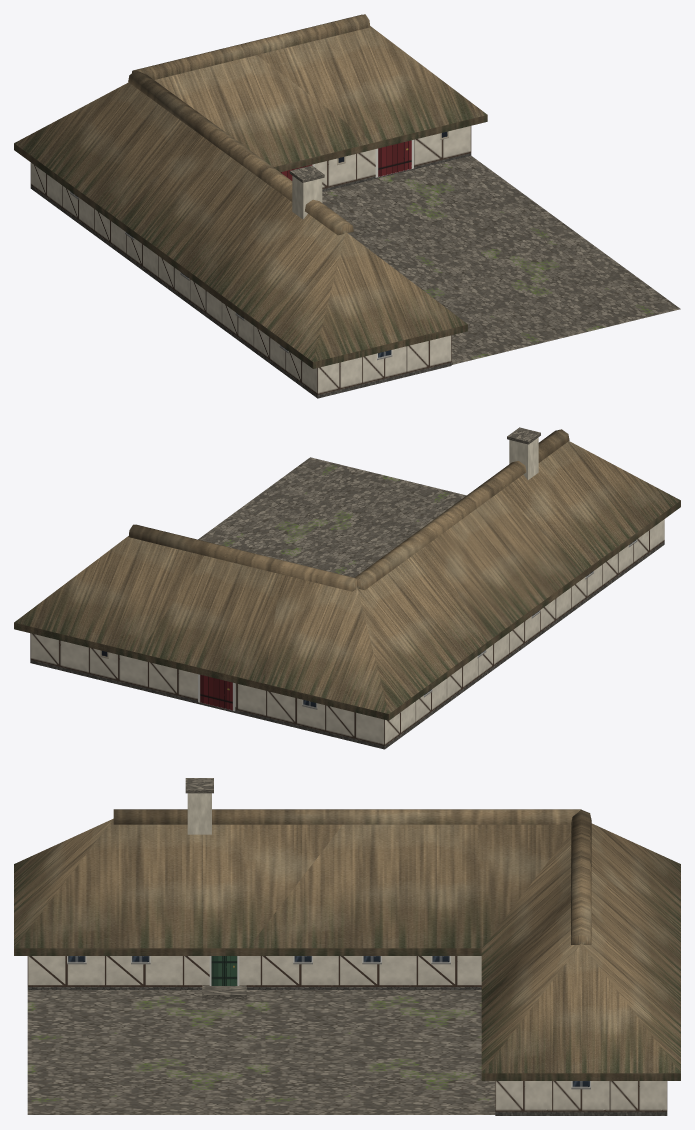
The model's file is SM_Farm_Tolaenget.fbx.
The picture shows the model from 3 angles, top to bottom: view 1: azimuth 30°, elevation 25°; view 2: azimuth 150°, elevation 25°; view 3: azimuth 270°, elevation 25°; orthographic projection. The views are drawn at different scales.
Visible parts, largest first — view 1: SM_Farm_Tolaenget; view 2: SM_Farm_Tolaenget; view 3: SM_Farm_Tolaenget.
Boxes of the visible parts, x1,y1,x2,y2 form: SM_Farm_Tolaenget: [14, 14, 680, 398]; SM_Farm_Tolaenget: [14, 427, 680, 749]; SM_Farm_Tolaenget: [14, 778, 680, 1115].
Bounding box in the file's own units: 2010 × 2710 × 764.
Materials: 1 (1 with a texture image).
